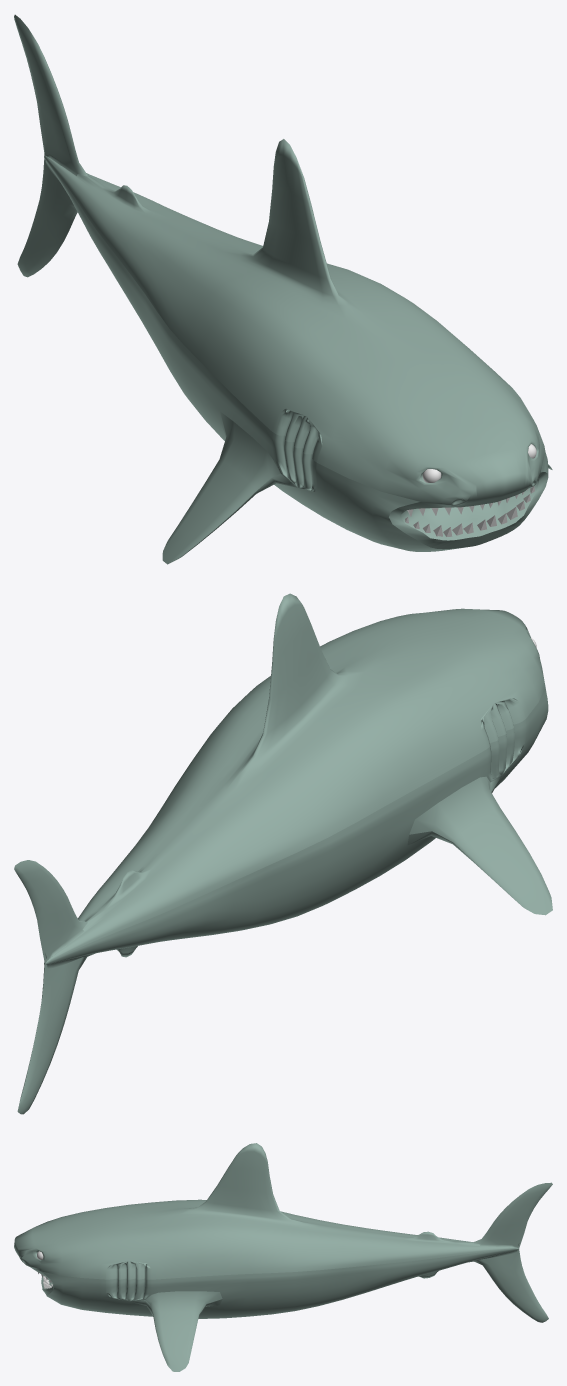
3 views of the same model, one above another, from view 1: azimuth 30°, elevation 25°; view 2: azimuth 150°, elevation 25°; view 3: azimuth 270°, elevation 25° (orthographic). The views are drawn at different scales.
Parts seen in each view (by area): view 1: body_Material_#3_0, teeth_Material_#4_0; view 2: body_Material_#3_0; view 3: body_Material_#3_0.
Boxes of the visible parts, x1,y1,x2,y2 form: body_Material_#3_0: (14, 14, 552, 564); teeth_Material_#4_0: (405, 486, 534, 536); body_Material_#3_0: (14, 593, 552, 1114); body_Material_#3_0: (14, 1143, 552, 1371).
Bounding box in the file's own units: 7 × 5.68 × 15.44.
